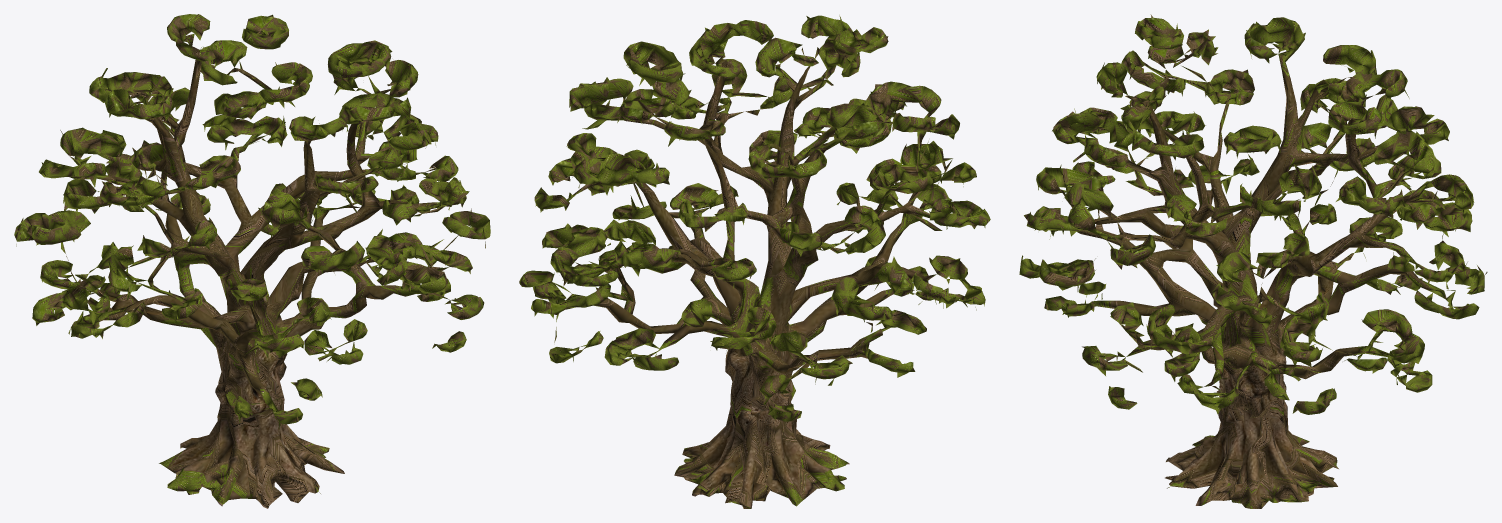
The model's file is oak.glb.
3 views of the same model, side by side, from view 1: azimuth 30°, elevation 25°; view 2: azimuth 150°, elevation 25°; view 3: azimuth 270°, elevation 25° (orthographic).
Size of the model in its own units: 5.64 by 5.55 by 5.54.
1 material, 1 textured.
